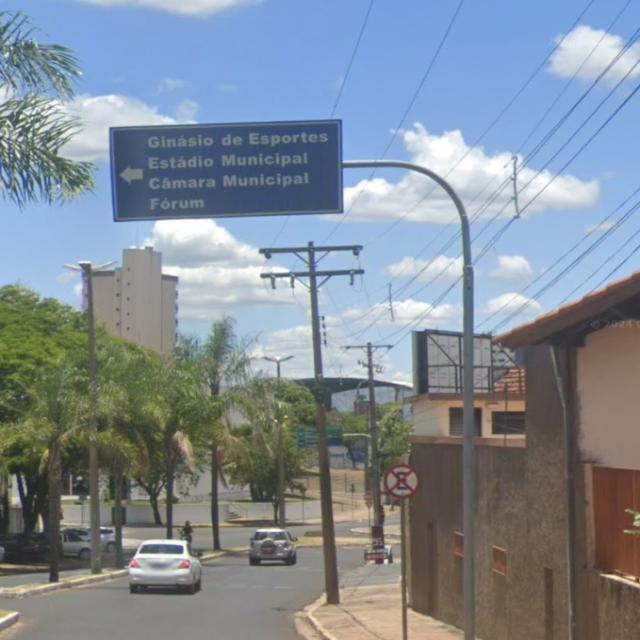indication: (92, 114, 352, 225)
no parking: (376, 458, 425, 506)
